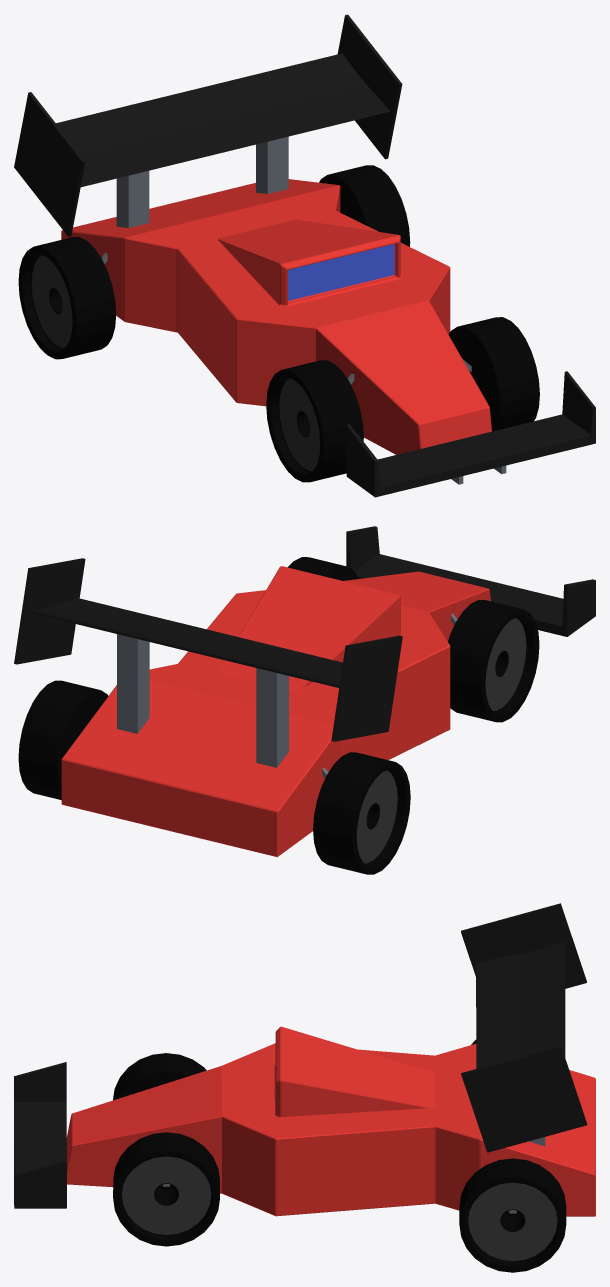
Rendered from Car.glb.
3 renders of one model, top to bottom at view 1: azimuth 30°, elevation 25°; view 2: azimuth 150°, elevation 25°; view 3: azimuth 270°, elevation 25°, orthographic. The views are drawn at different scales.
Parts seen in each view (by area): view 1: CarBody, RearWing, RearWheel, FrontWing, FRWheel, FLWheel, RearWingSupport; view 2: CarBody, RearWing, RearWheel, FRWheel, FrontWing, RearWingSupport, FLWheel; view 3: CarBody, RearWing, RearWheel, FLWheel, FrontWing, FRWheel.
Part boxes in pixels (<box>): CarBody: <box>61,179,491,454</box>; RearWing: <box>14,14,402,236</box>; RearWheel: <box>18,165,410,359</box>; FrontWing: <box>346,371,595,497</box>; FRWheel: <box>266,360,363,482</box>; FLWheel: <box>448,317,539,431</box>; RearWingSupport: <box>116,136,288,227</box>; CarBody: <box>61,566,490,857</box>; RearWing: <box>14,558,402,741</box>; RearWheel: <box>18,680,410,874</box>; FRWheel: <box>448,600,539,722</box>; FrontWing: <box>346,526,595,636</box>; RearWingSupport: <box>117,634,288,767</box>; FLWheel: <box>287,557,358,580</box>; CarBody: <box>66,1026,595,1216</box>; RearWing: <box>461,903,587,1152</box>; RearWheel: <box>459,1040,566,1272</box>; FLWheel: <box>113,1132,219,1246</box>; FrontWing: <box>14,1062,66,1208</box>; FRWheel: <box>113,1053,206,1100</box>.
Size of the model in its own units: 5.49 by 3.79 by 8.98.
